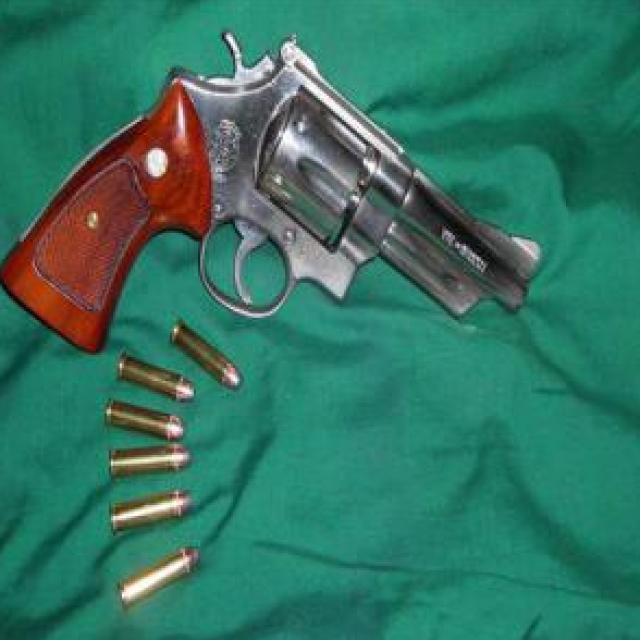pistol: (0, 28, 542, 346)
